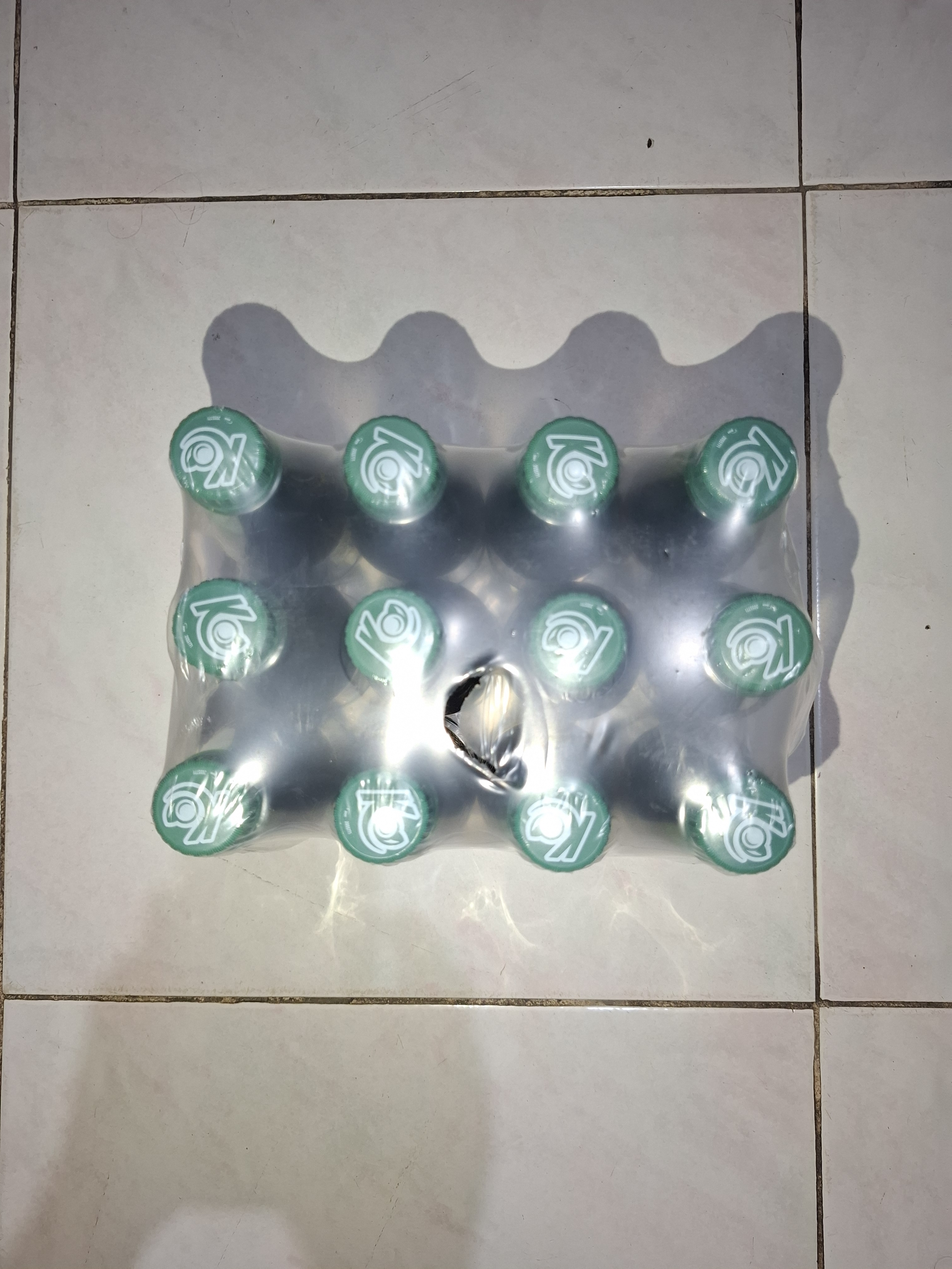Tampa Refrigerante Kuat: (678, 754, 807, 882), (698, 583, 818, 704), (524, 574, 633, 706), (165, 571, 286, 686), (146, 750, 264, 862), (345, 404, 448, 523), (341, 580, 448, 694), (166, 403, 275, 505), (524, 412, 621, 521), (331, 759, 431, 863), (512, 770, 611, 874), (705, 414, 792, 515)
